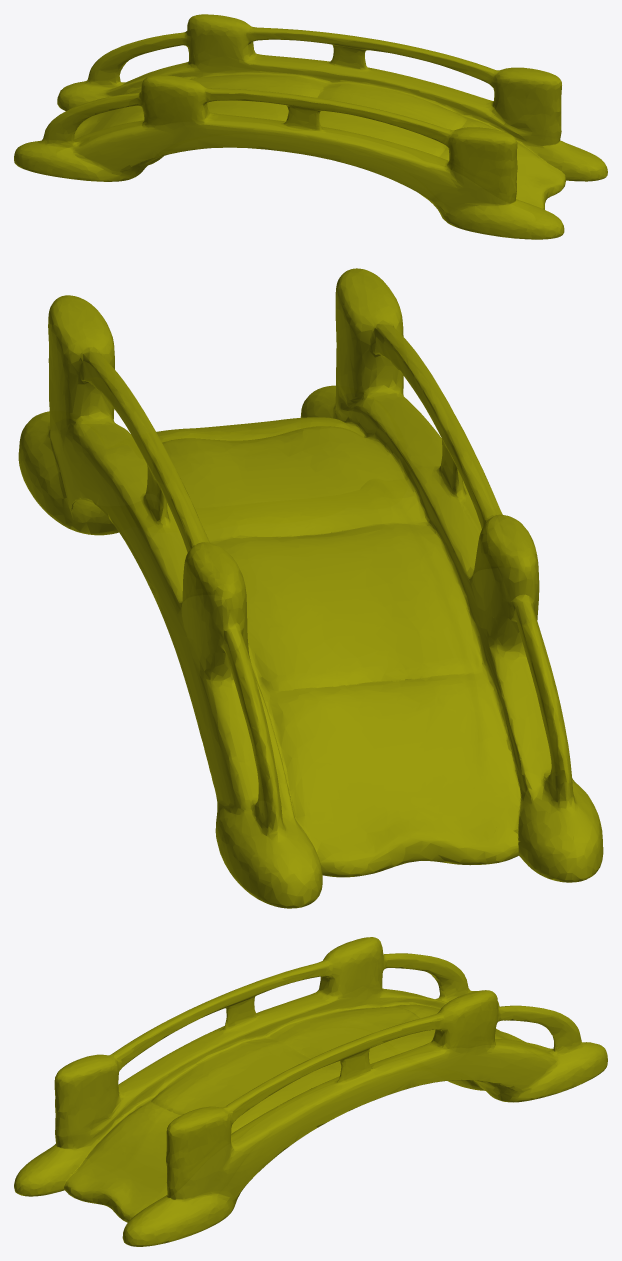
The model's file is bridge.fbx.
The picture shows the model from 3 angles, top to bottom: view 1: azimuth 30°, elevation 25°; view 2: azimuth 150°, elevation 25°; view 3: azimuth 270°, elevation 25°; orthographic projection. The views are drawn at different scales.
Visible parts, largest first — view 1: pasted__model; view 2: pasted__model; view 3: pasted__model.
Boxes of the visible parts, left/top/right/bottom form: pasted__model: left=14, top=14, right=607, bottom=239; pasted__model: left=18, top=268, right=603, bottom=908; pasted__model: left=14, top=937, right=607, bottom=1246.
Bounding box in the file's own units: 68.79 × 16.42 × 72.29.
